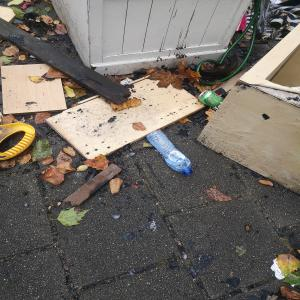Can: (197, 89, 227, 114)
Plastic-bottle: (146, 131, 200, 180)
Trash: (1, 121, 40, 164)
